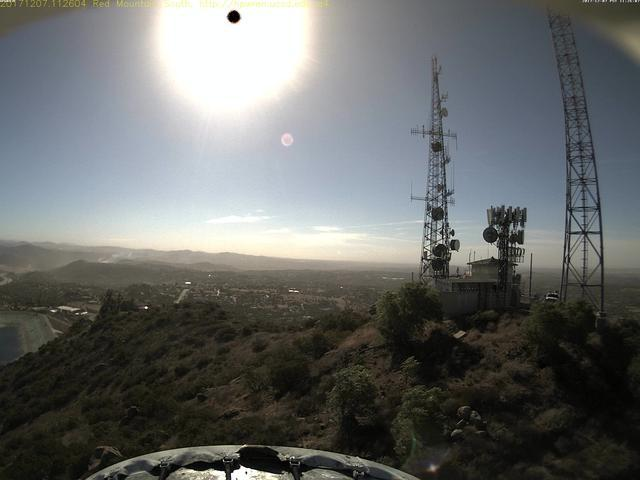smoke: (91, 245, 145, 268)
